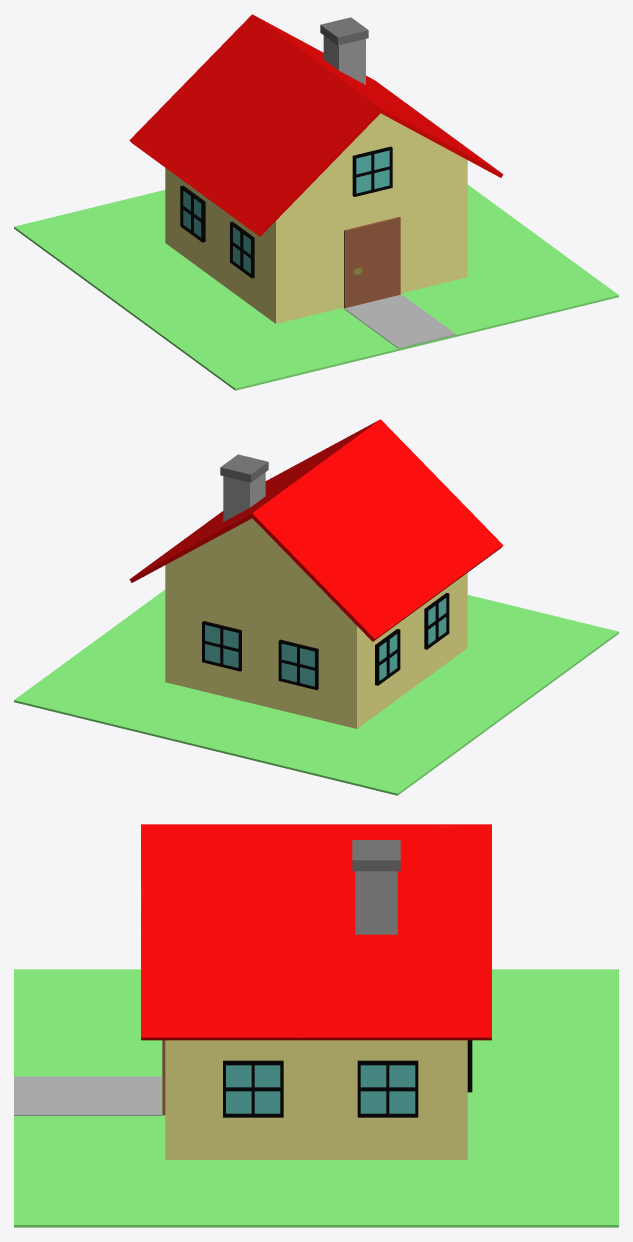
File: house1_red.gltf
3 views of the same model, one above another, from view 1: azimuth 30°, elevation 25°; view 2: azimuth 150°, elevation 25°; view 3: azimuth 270°, elevation 25° (orthographic). The views are drawn at different scales.
Parts seen in each view (by area): view 1: Cube, house.002, house_cube, house.001, house.005, house.003, house.056, house.004, house.007, house.006; view 2: Cube, house.002, house_cube, house.001, house.003, house.004, house.035, house.042, house.006, house.021, house.049; view 3: Cube, house.003, house_cube, house.056, house.004, house.028, house.014, house.006.
Part boxes in pixels (x1=…): Cube: x1=14, y1=185, x2=618, y2=390; house.002: x1=129, y1=14, x2=382, y2=236; house_cube: x1=165, y1=159, x2=467, y2=323; house.001: x1=295, y1=113, x2=465, y2=200; house.005: x1=343, y1=217, x2=400, y2=308; house.003: x1=253, y1=15, x2=503, y2=177; house.056: x1=344, y1=294, x2=455, y2=348; house.004: x1=323, y1=35, x2=365, y2=84; house.007: x1=356, y1=150, x2=389, y2=193; house.006: x1=320, y1=17, x2=368, y2=45; Cube: x1=14, y1=590, x2=618, y2=795; house.002: x1=250, y1=419, x2=503, y2=641; house_cube: x1=165, y1=564, x2=467, y2=728; house.001: x1=167, y1=518, x2=337, y2=605; house.003: x1=129, y1=420, x2=379, y2=582; house.004: x1=223, y1=472, x2=265, y2=521; house.035: x1=205, y1=625, x2=238, y2=667; house.042: x1=281, y1=643, x2=314, y2=686; house.006: x1=220, y1=454, x2=268, y2=482; house.021: x1=428, y1=598, x2=446, y2=644; house.049: x1=379, y1=634, x2=397, y2=680; Cube: x1=14, y1=969, x2=618, y2=1227; house.003: x1=141, y1=824, x2=491, y2=1040; house_cube: x1=165, y1=1040, x2=467, y2=1159; house.056: x1=14, y1=1076, x2=161, y2=1115; house.004: x1=355, y1=871, x2=397, y2=934; house.028: x1=360, y1=1065, x2=415, y2=1113; house.014: x1=226, y1=1065, x2=280, y2=1113; house.006: x1=352, y1=840, x2=400, y2=871.
Size of the model in its own units: 20 by 10.32 by 20.
2 materials, 2 textured.
